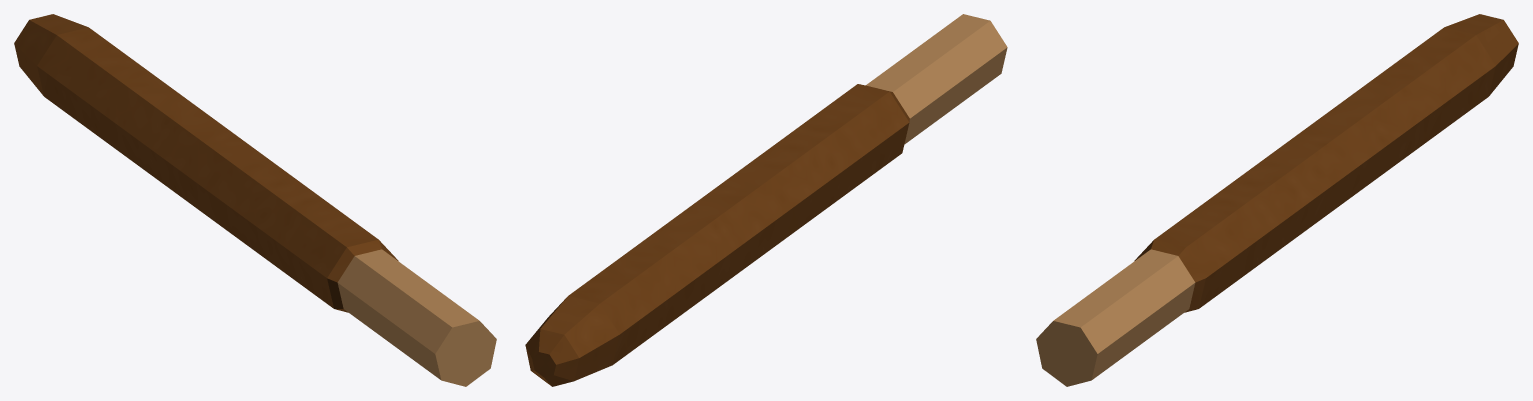
File: pink_share_tree_4.FBX
3 views of the same model, side by side, from view 1: azimuth 30°, elevation 25°; view 2: azimuth 150°, elevation 25°; view 3: azimuth 330°, elevation 25° (orthographic).
Parts seen in each view (by area): view 1: pink_stick; view 2: pink_stick; view 3: pink_stick.
Part boxes in pixels (box(x1,y1,x2,y2)): pink_stick: box(14, 14, 496, 386); pink_stick: box(525, 14, 1007, 386); pink_stick: box(1036, 14, 1518, 386).
Bounding box in the file's own units: 23.86 × 23.26 × 250.
